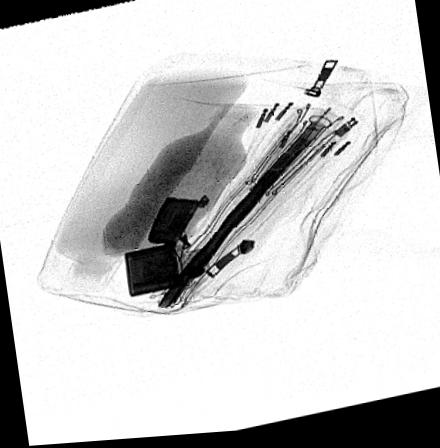Lighter: (123, 198, 210, 300)
